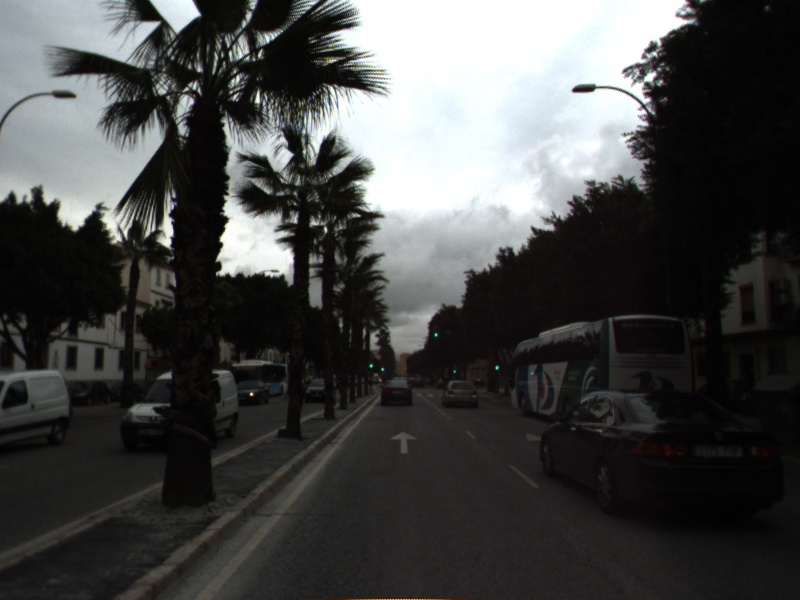STRAIGHT: (388, 429, 420, 456)
